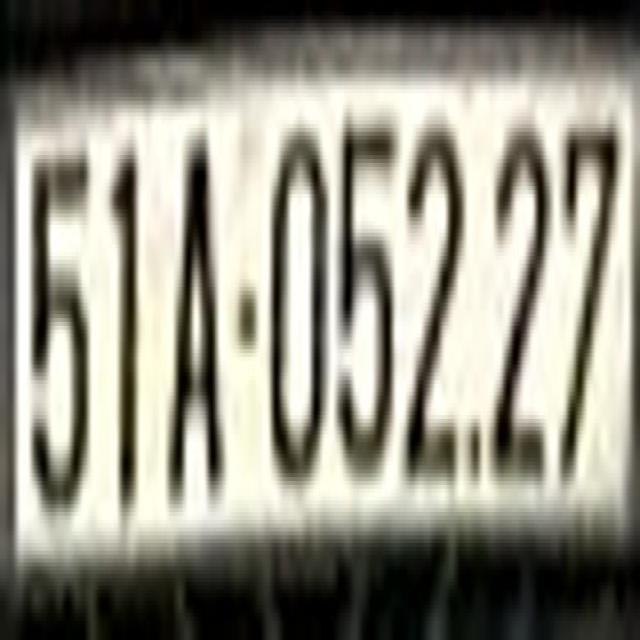0: (269, 100, 328, 497)
1: (108, 136, 138, 512)
2: (490, 97, 550, 489), (406, 100, 464, 497)
5: (30, 143, 90, 520), (336, 105, 394, 492)
7: (564, 112, 616, 485)
A: (164, 128, 224, 508)
